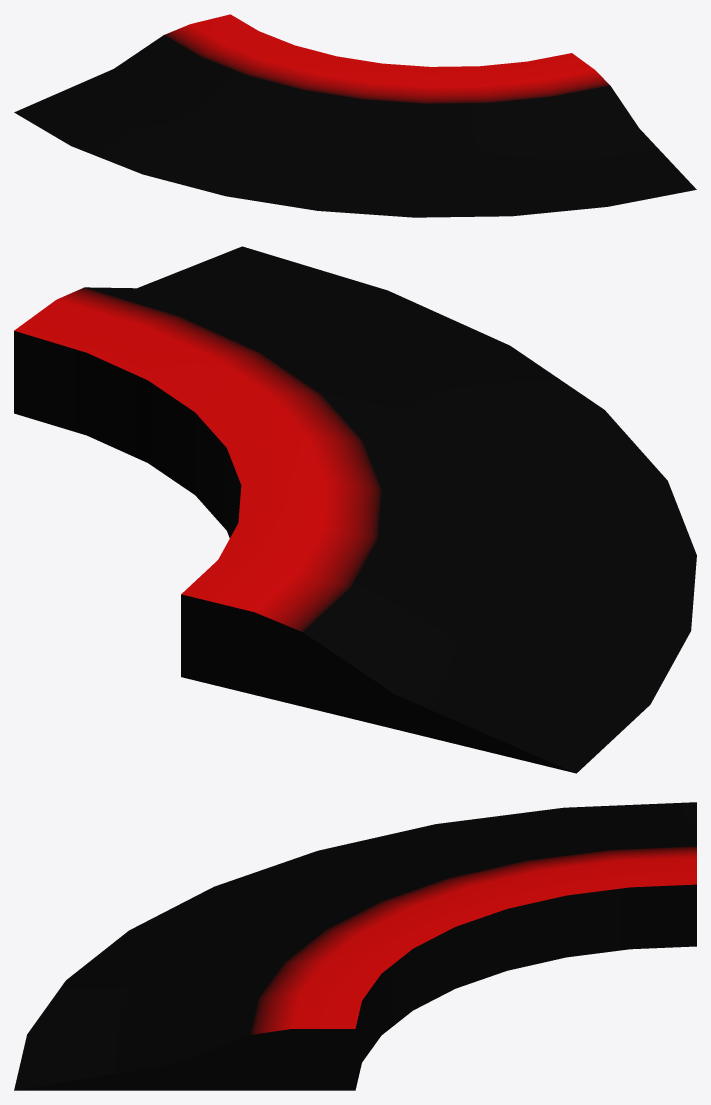
File: PlatformArchDeclineIn_90Deg.fbx
3 renders of one model, top to bottom at view 1: azimuth 30°, elevation 25°; view 2: azimuth 150°, elevation 25°; view 3: azimuth 270°, elevation 25°, orthographic. The views are drawn at different scales.
Parts seen in each view (by area): view 1: PlatformArchDeclineIn_90Deg; view 2: PlatformArchDeclineIn_90Deg; view 3: PlatformArchDeclineIn_90Deg.
Boxes of the visible parts, x1,y1,x2,y2 form: PlatformArchDeclineIn_90Deg: [14, 14, 696, 217]; PlatformArchDeclineIn_90Deg: [14, 246, 696, 773]; PlatformArchDeclineIn_90Deg: [14, 802, 696, 1090].
Bounding box in the file's own units: 10 × 1 × 10.
